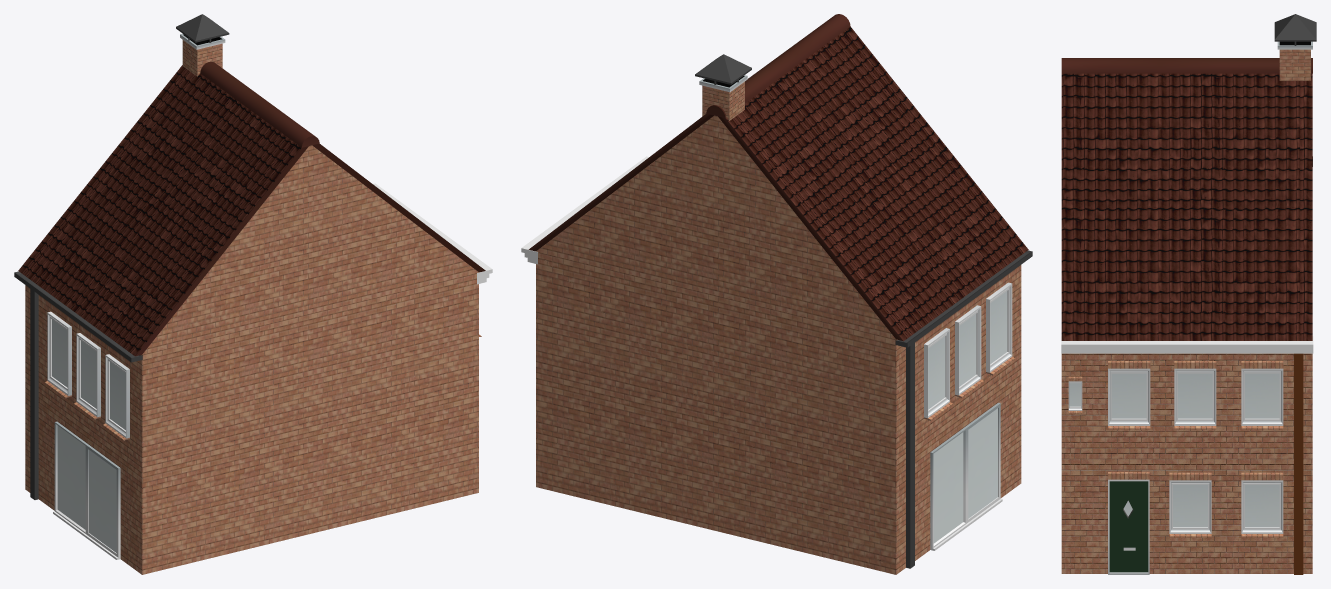
File: It_Bynt_4.fbx
3 views of the same model, side by side, from view 1: azimuth 30°, elevation 25°; view 2: azimuth 150°, elevation 25°; view 3: azimuth 270°, elevation 25° (orthographic). The views are drawn at different scales.
Parts seen in each view (by area): view 1: It_Bynt_4; view 2: It_Bynt_4; view 3: It_Bynt_4.
Part boxes in pixels (x1=…): It_Bynt_4: x1=14, y1=14, x2=492, y2=574; It_Bynt_4: x1=521, y1=14, x2=1032, y2=574; It_Bynt_4: x1=1061, y1=14, x2=1316, y2=574.
Size of the model in its own units: 1016 by 1183 by 579.
